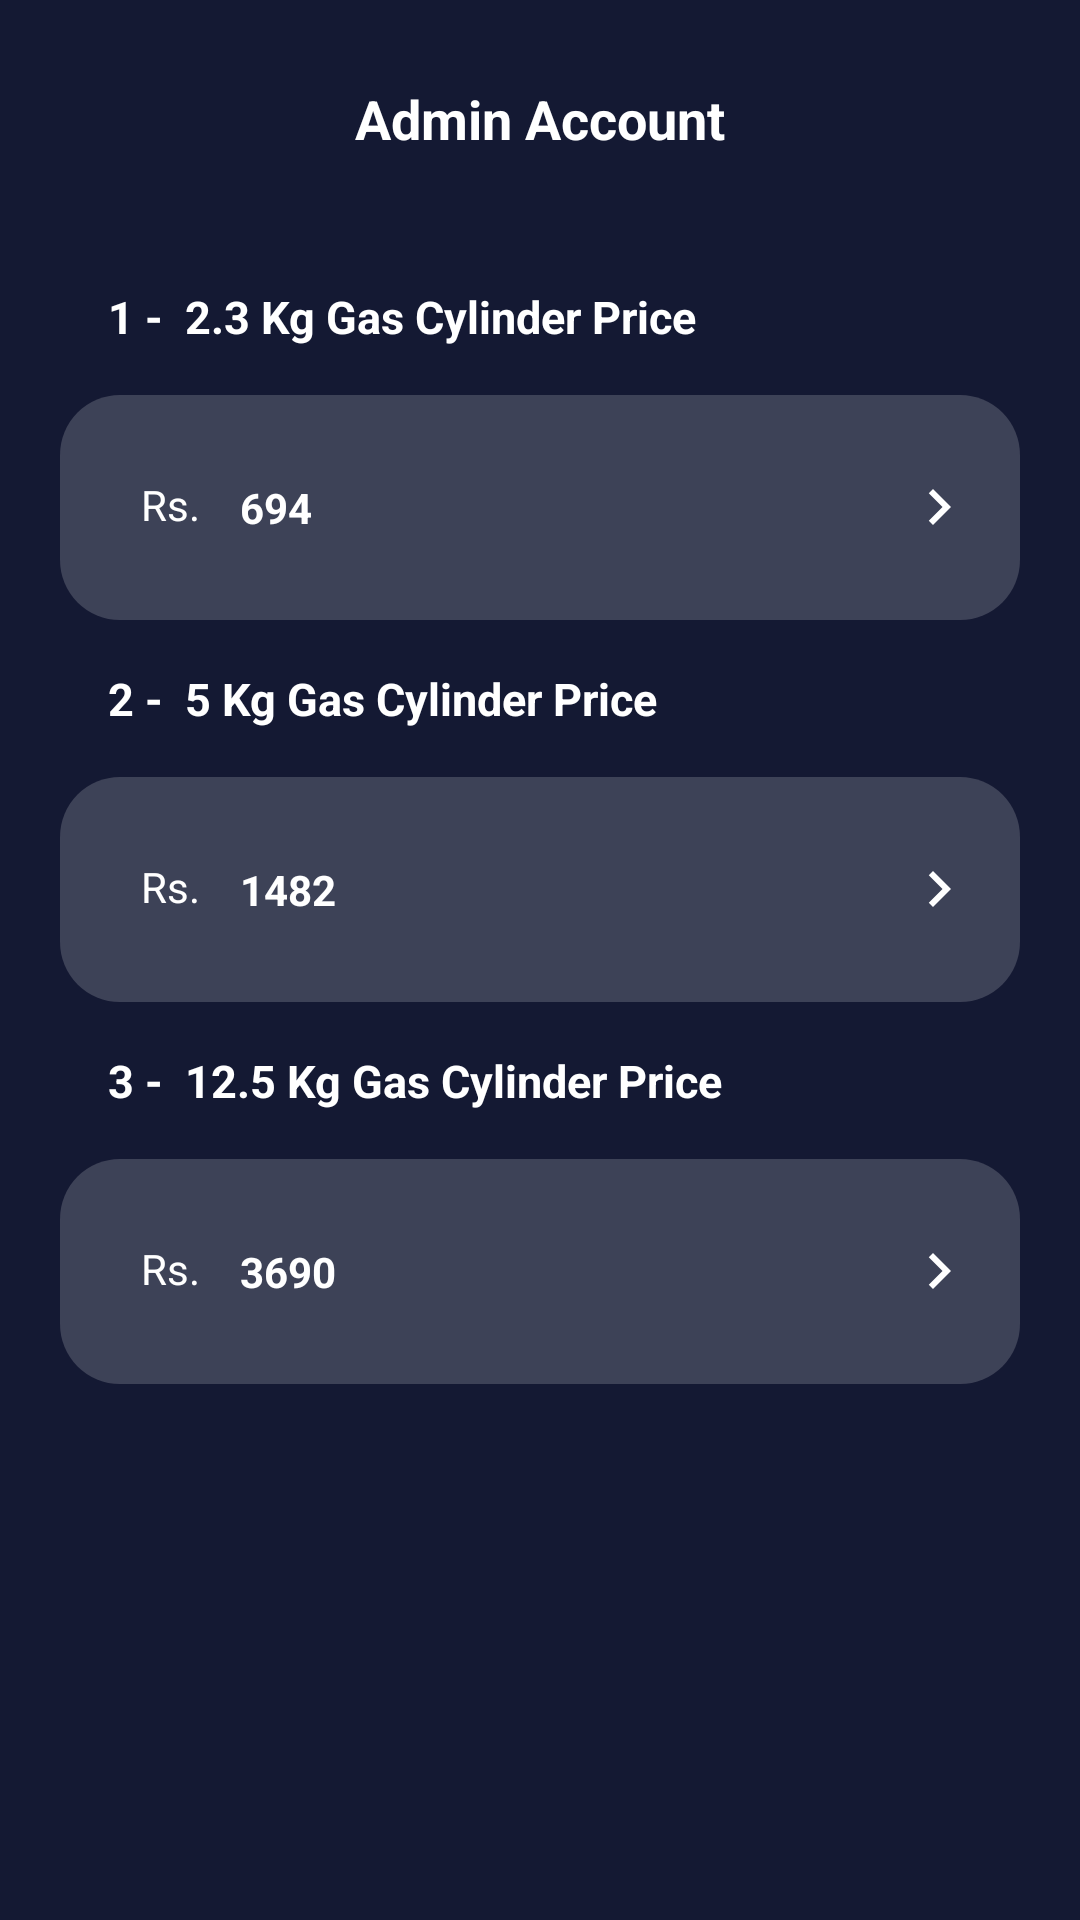

Where to tap for icons on this 1080x1920 app screen, as (x,y):
Right Arrow Icon: (940,507), (940,889), (940,1271)
